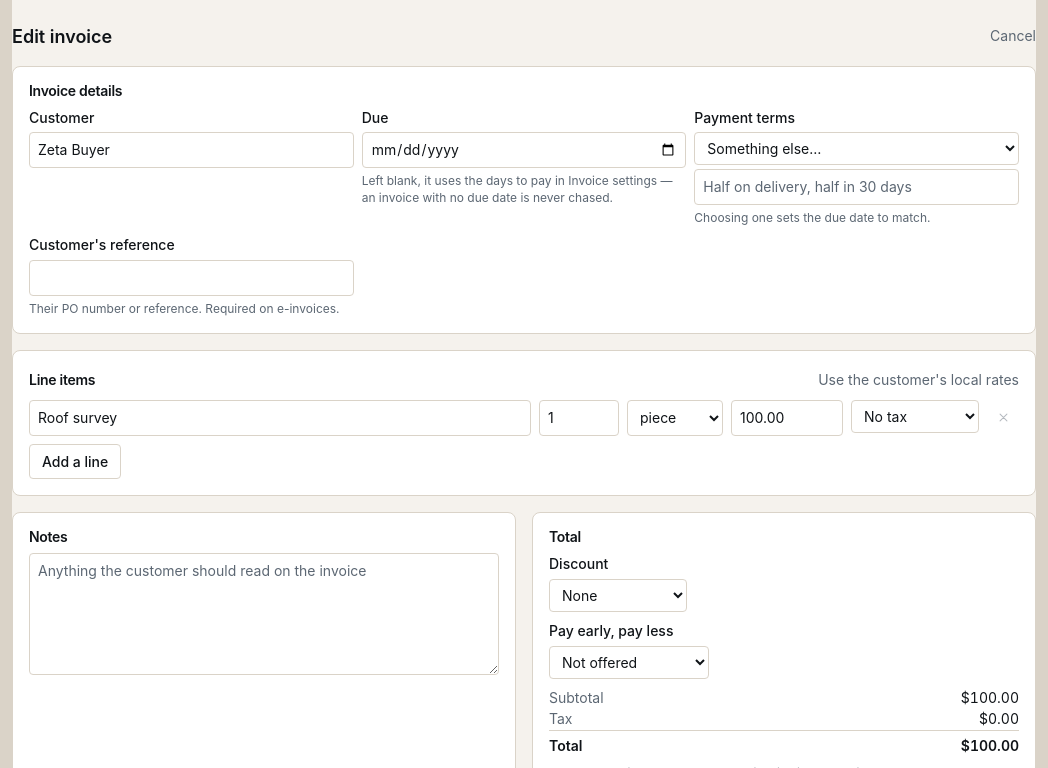
Scenario: the tax that lands on the invoice is that state's, in cents
What coordinates should you click on to do the following:
click the button "Use the customer's local rates"
I would click on:
 (919, 380)
Its box is x1=818 y1=368 x2=1019 y2=392.
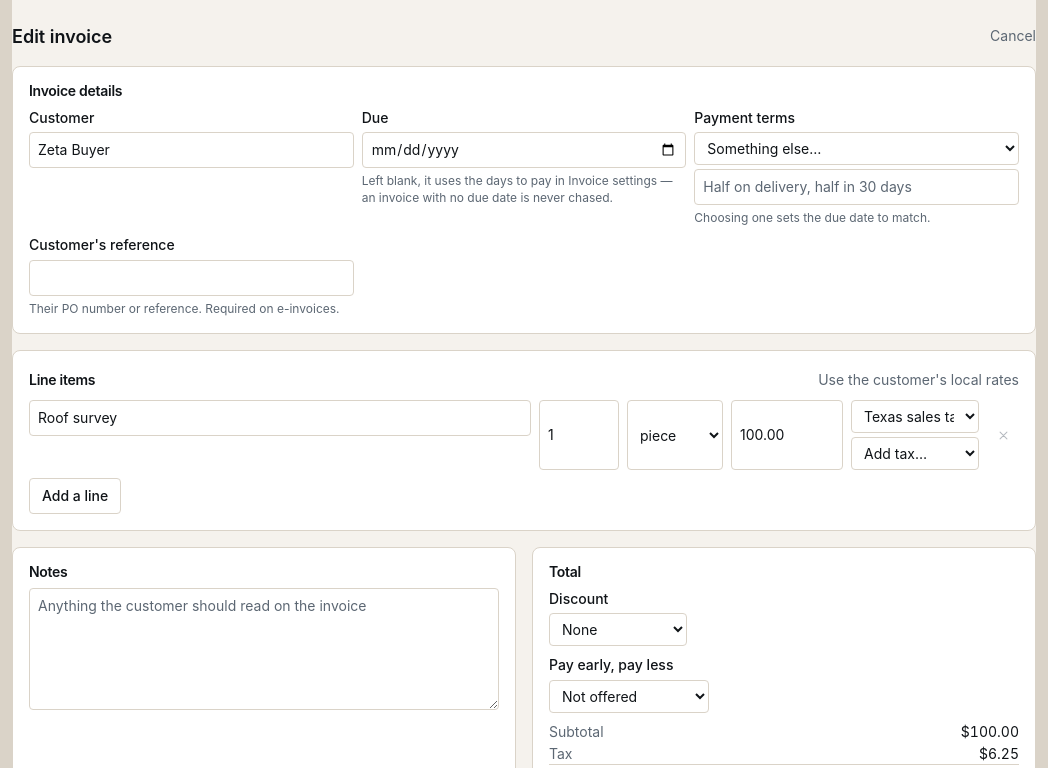
Check: the text "$6.25" is shown, box x1=776 y1=742 x2=1019 y2=765
